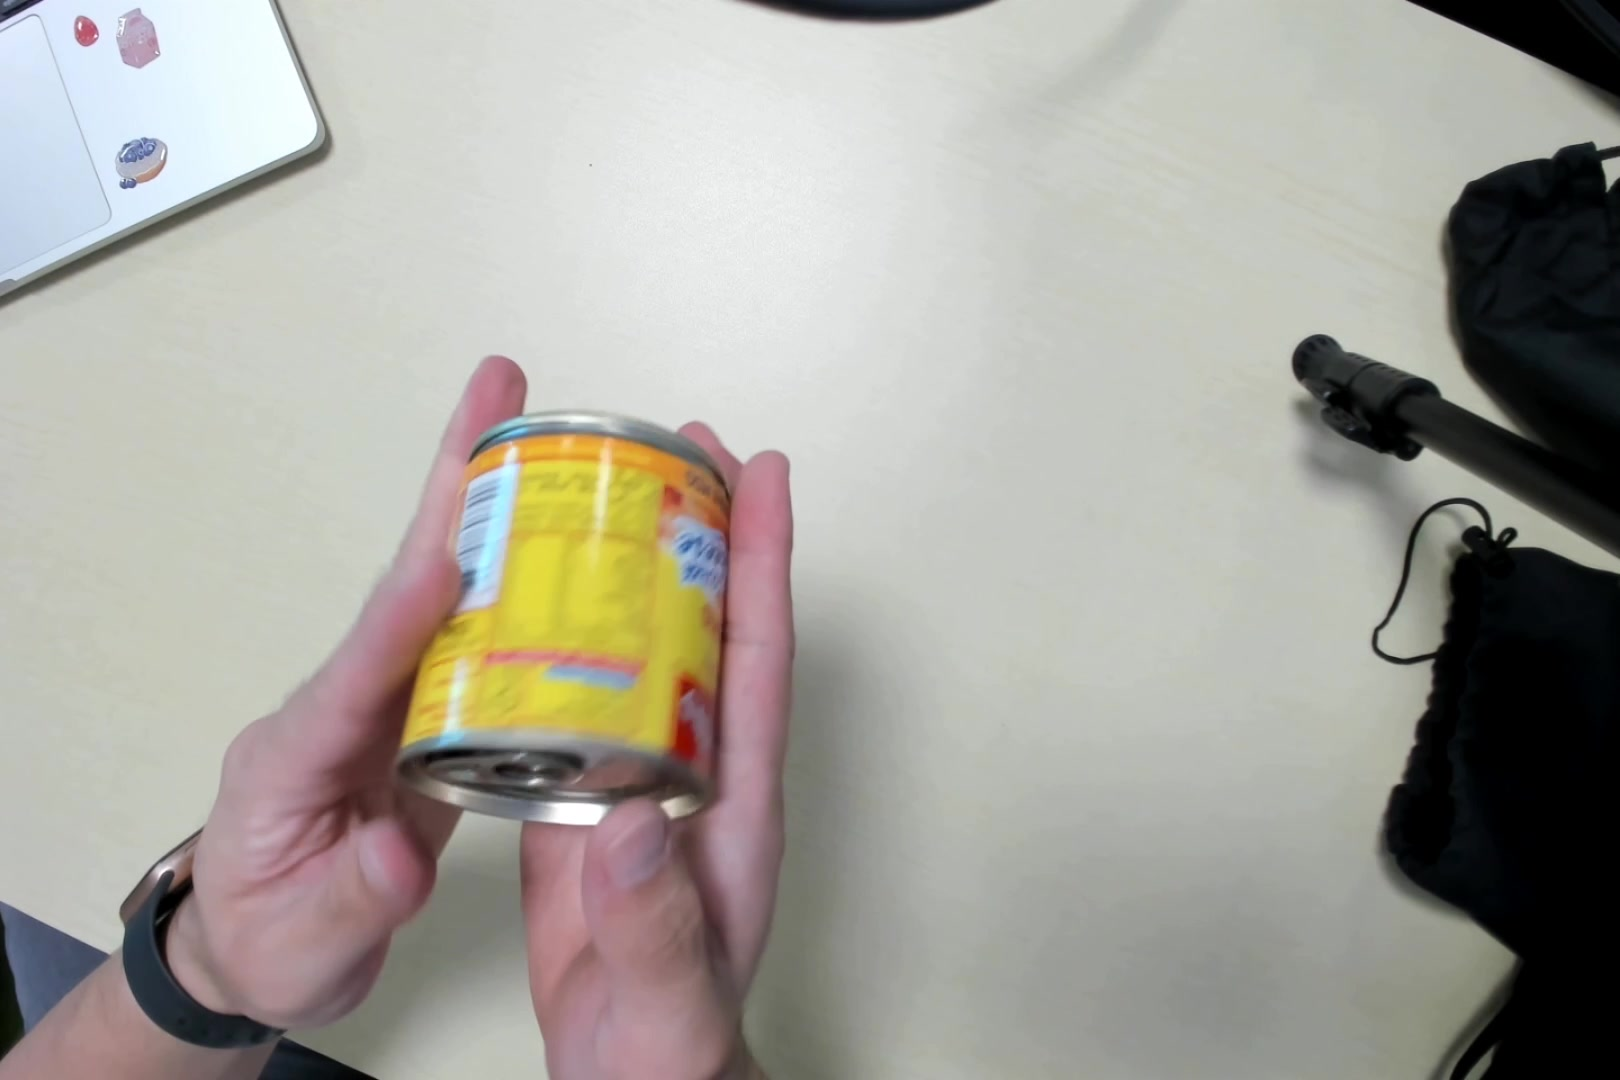CannedBakedBeans_200-299g_NonHalal_NonHealthy: (413, 422, 721, 817)
